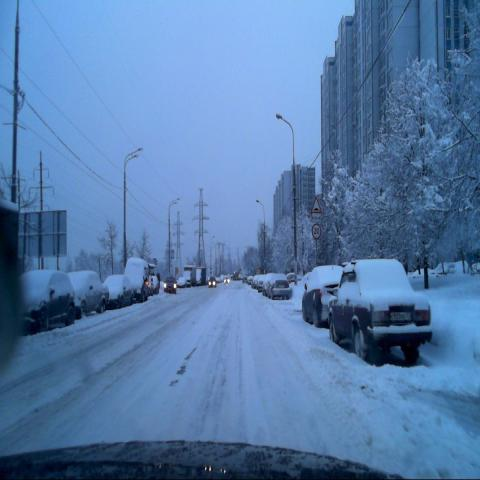1_17: (311, 195, 322, 213)
3_24: (312, 224, 321, 240)
